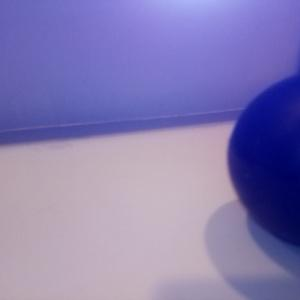dead_ball: (225, 73, 300, 245)
